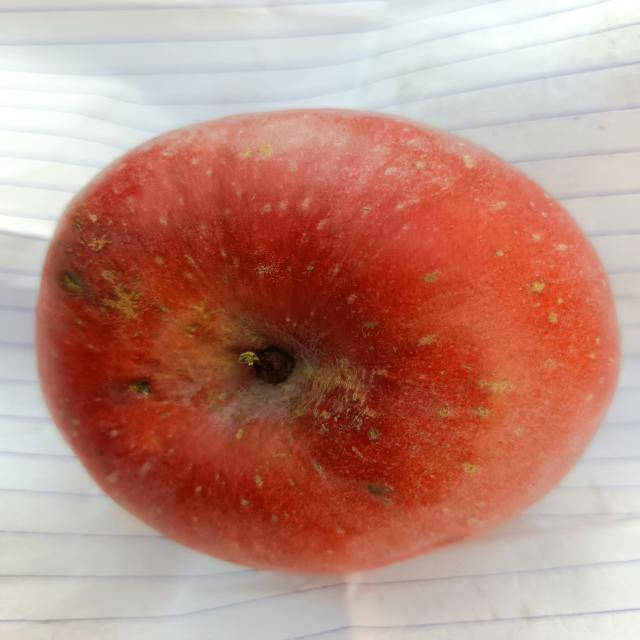Fresh Apple: (29, 106, 620, 574)
